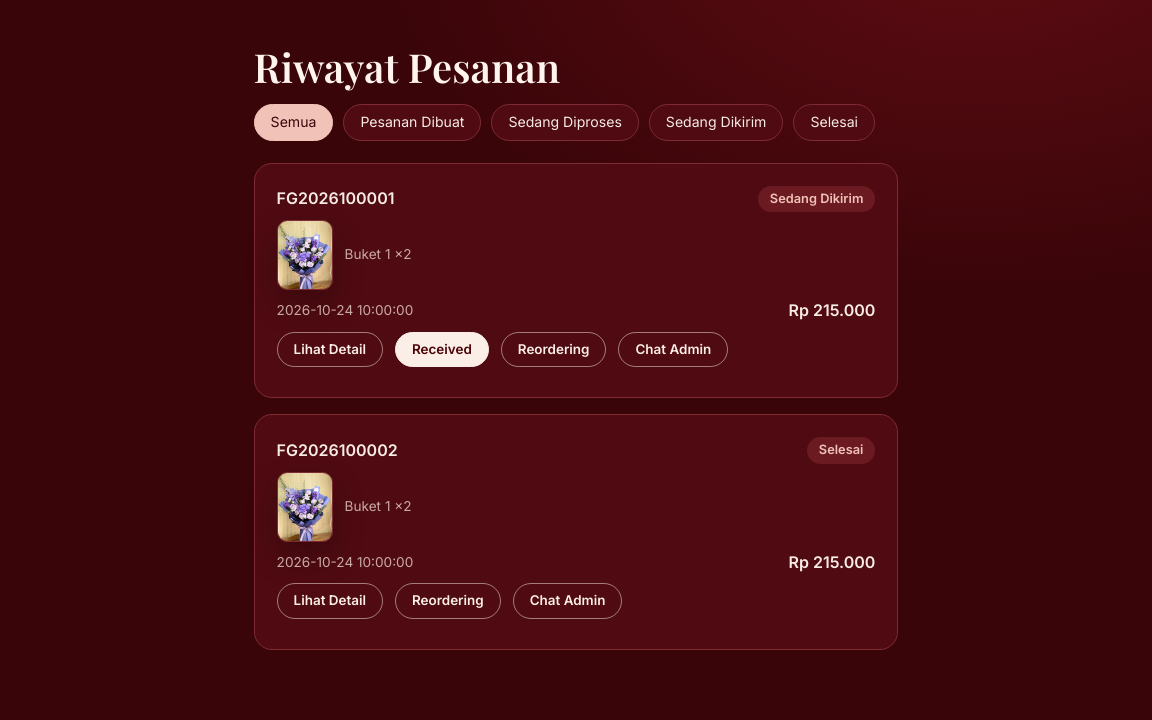
Test case: History › menampilkan, memfilter, dan menerima pesanan
The width and height of the screenshot is (1152, 720).
Expected: the text "FG2026100001" is shown, [277, 186, 394, 212]
Expected: the text "FG2026100002" is shown, [277, 438, 398, 463]
Click the button "Received" at x=442, y=349, box [395, 332, 489, 367]
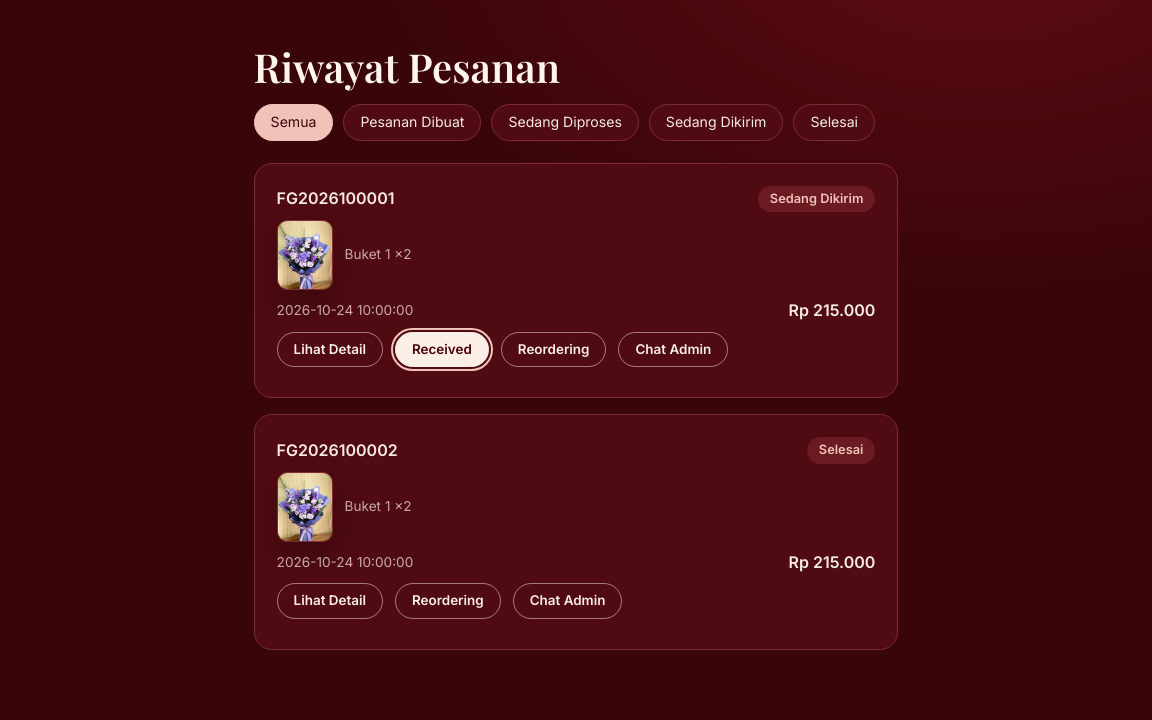
Click the button "Selesai" at x=834, y=122, box [793, 104, 875, 140]
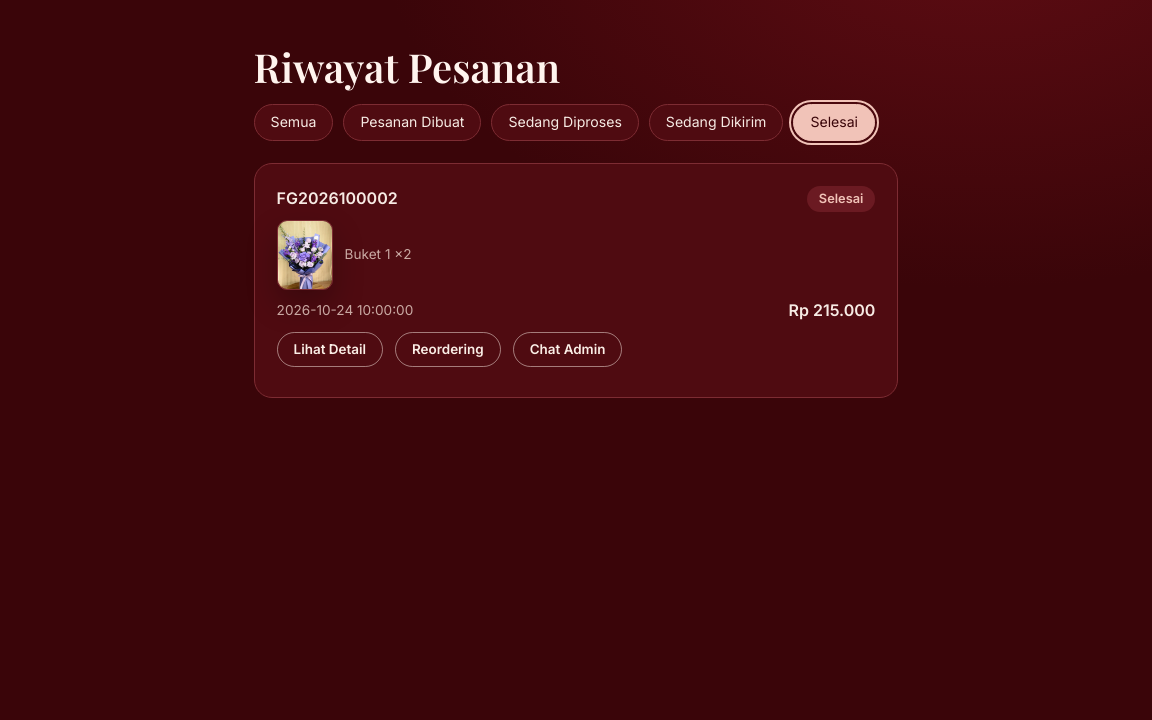
Expected: the text "FG2026100002" is shown, [277, 186, 398, 212]
Now the text "FG2026100001" is gone
Click the button "Semua" at x=294, y=122, box [254, 104, 333, 140]
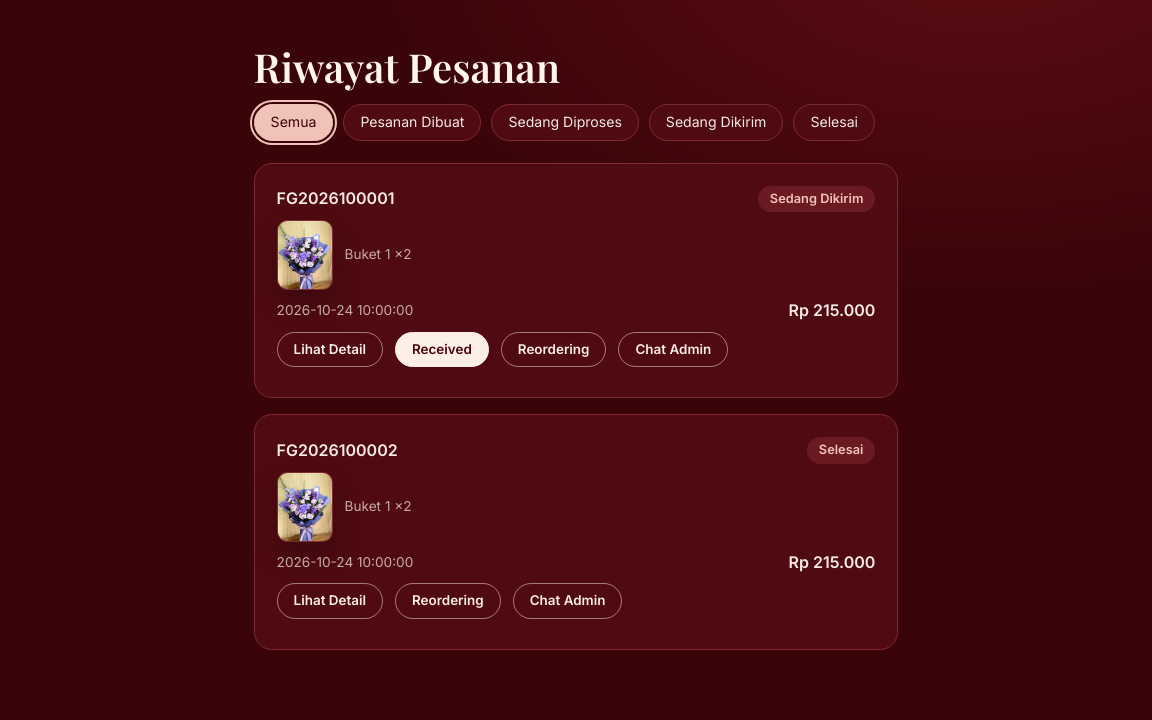
Now the text "FG2026100001" is shown, box [277, 186, 394, 212]
